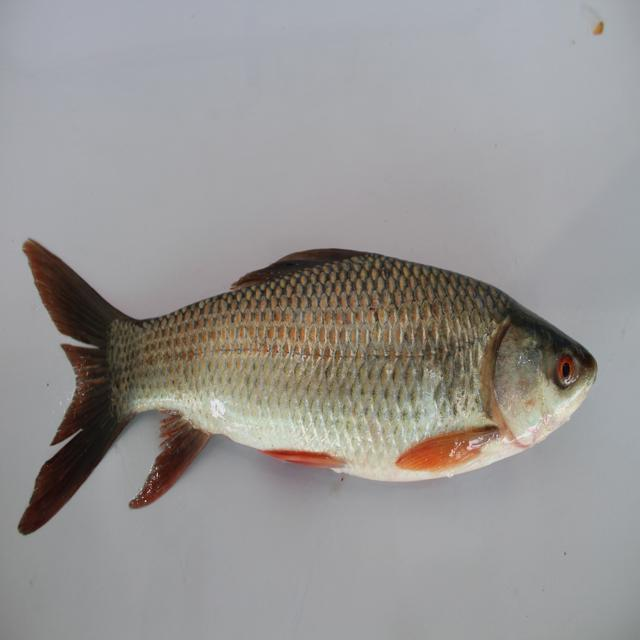Rohu: (12, 207, 596, 544)
